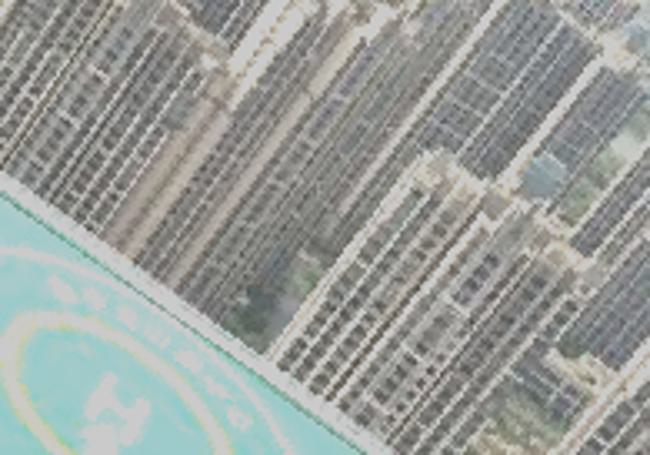Apron: (3, 291, 235, 455)
